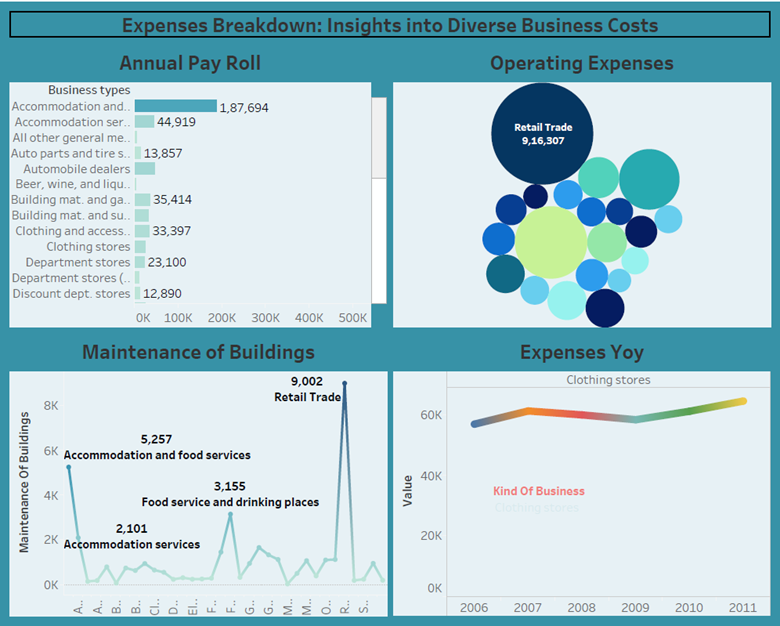

This screenshot's page, from the dashboard's own definition file:
{"tool":"tableau","page":{"name":"Dashboard 1","canvas":[1000,800],"ordinal":1},"visuals":[{"type":"title","box":[8,8,984,42]},{"type":"worksheet","title":"Annual Pay Roll (2)","mark":"Automatic","rows":["Business_types"],"cols":["annual_payroll"],"box":[8,50,492,371]},{"type":"worksheet","title":"Operating Expenses","mark":"Circle","box":[500,50,492,371]},{"type":"worksheet","title":"Maintanance of Buildings","mark":"Line","rows":["maintenance_of_buildings_offices"],"cols":["Business_types"],"box":[8,421,492,371]},{"type":"worksheet","title":"Expenses Yoy","mark":"Line","cols":["kind_of_business"],"box":[500,421,492,371]},{"type":"filter","title":"Expenses Yoy","param":"[federated.0ub82po12p09za18ez38g08zm7uz].[none:kind_of_business:nk]","box":[632,615,168,61]}]}

Visuals, with their boxes in screenshot pixels (x1, y1, x2, y2), scaled from the page's 1000x800 canvas onto the 780x626 screenshot:
title: crop(6, 6, 774, 39)
"Annual Pay Roll (2)" worksheet: crop(6, 39, 390, 329)
"Operating Expenses" worksheet (Circle marks): crop(390, 39, 774, 329)
"Maintanance of Buildings" worksheet (Line marks): crop(6, 329, 390, 620)
"Expenses Yoy" worksheet (Line marks): crop(390, 329, 774, 620)
"Expenses Yoy" filter: crop(493, 481, 624, 529)
